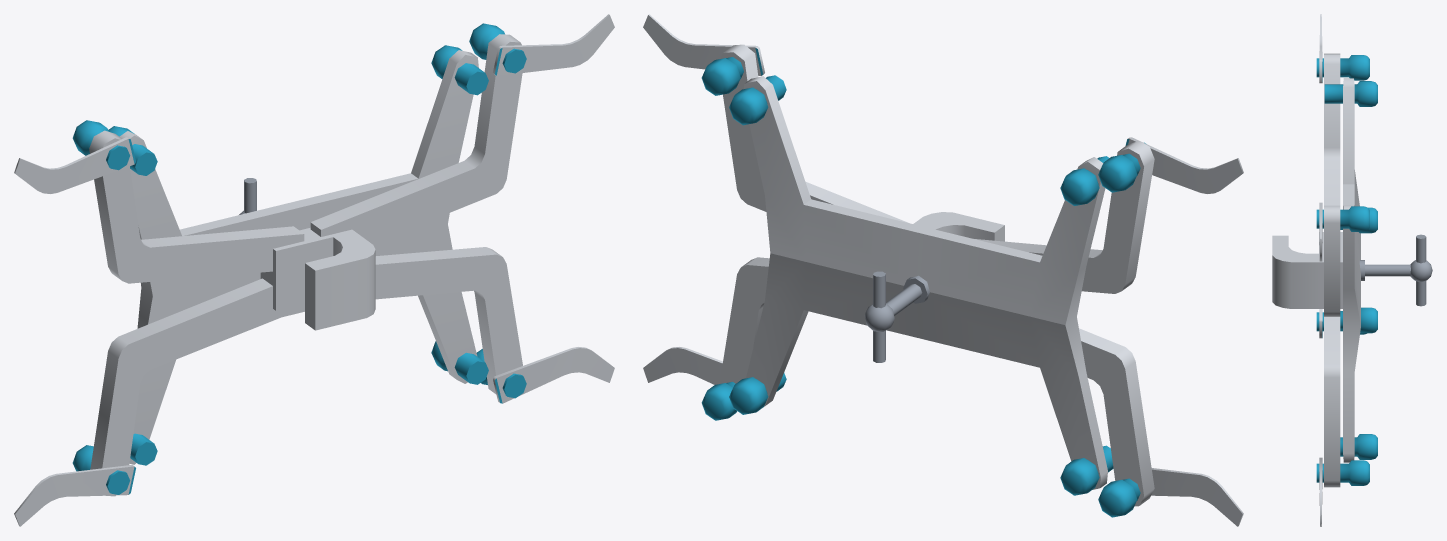
File: clamp_titration_clamp_dual.glb
3 renders of one model, left to right at view 1: azimuth 30°, elevation 25°; view 2: azimuth 150°, elevation 25°; view 3: azimuth 270°, elevation 25°, orthographic. The views are drawn at different scales.
Visible parts, largest first — view 1: clamp_titration_clamp_dual, clamp_titration_clamp; view 2: clamp_titration_clamp_dual, clamp_titration_clamp_dual_screw, clamp_titration_clamp; view 3: clamp_titration_clamp_dual, clamp_titration_clamp, clamp_titration_clamp_dual_screw.
Boxes of the visible parts, x1,y1,x2,y2 form: clamp_titration_clamp_dual: [14, 14, 614, 526]; clamp_titration_clamp: [260, 227, 375, 330]; clamp_titration_clamp_dual: [643, 14, 1243, 526]; clamp_titration_clamp_dual_screw: [864, 271, 929, 362]; clamp_titration_clamp: [913, 212, 1004, 241]; clamp_titration_clamp_dual: [1316, 14, 1377, 526]; clamp_titration_clamp: [1272, 232, 1342, 308]; clamp_titration_clamp_dual_screw: [1359, 234, 1432, 306].
Size of the model in its own units: 0.2045 by 0.12 by 0.0606.
1 material, 1 textured.
